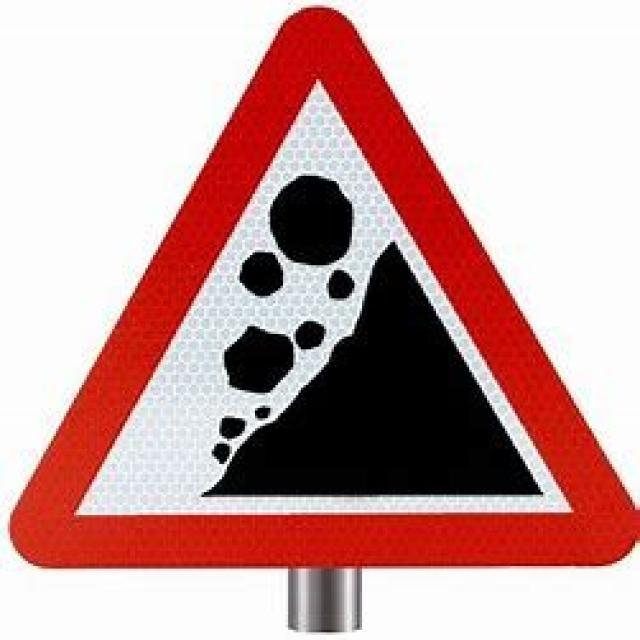falling rocks: (32, 29, 617, 574)
